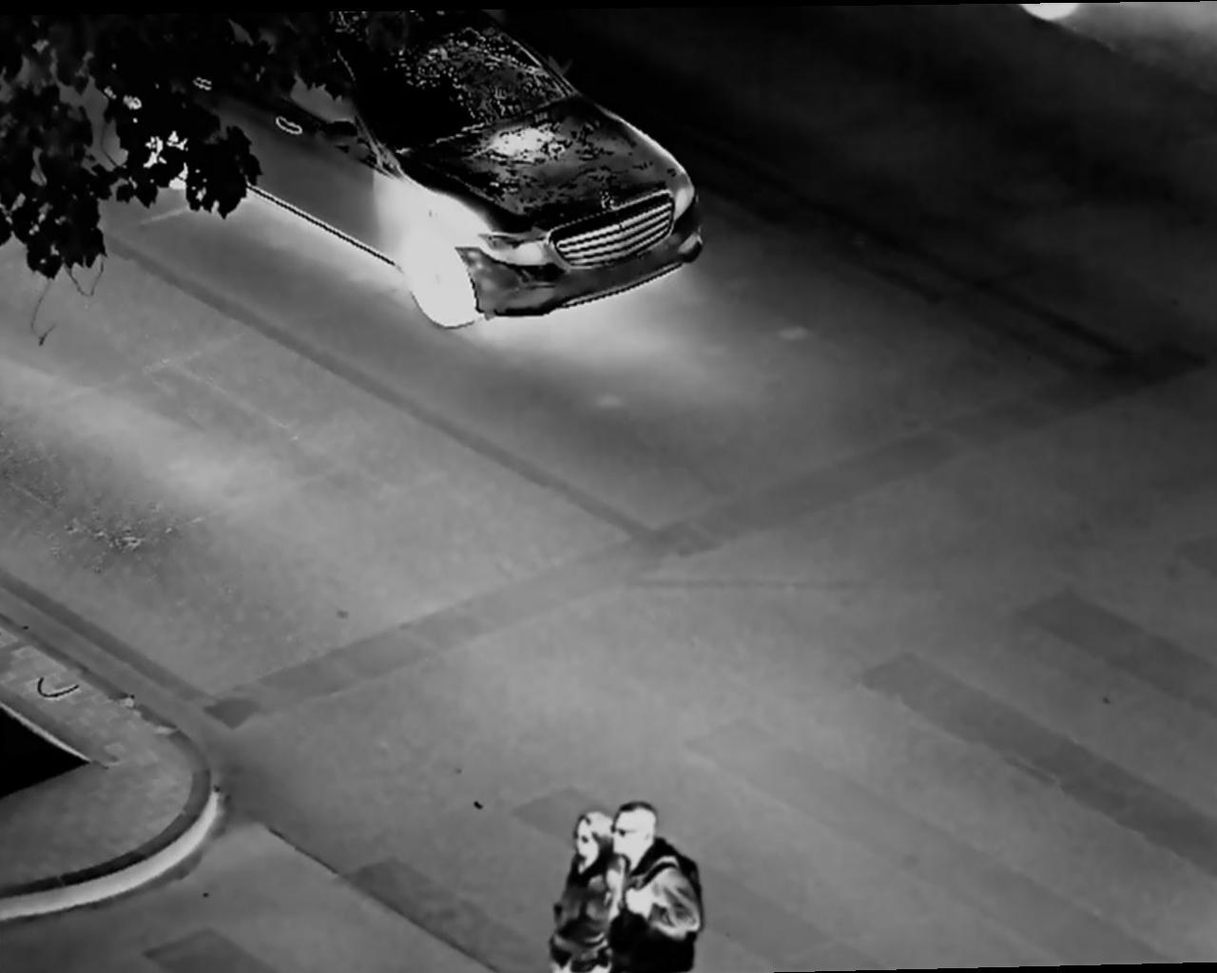person: (607, 797, 736, 973), (545, 812, 616, 973)
